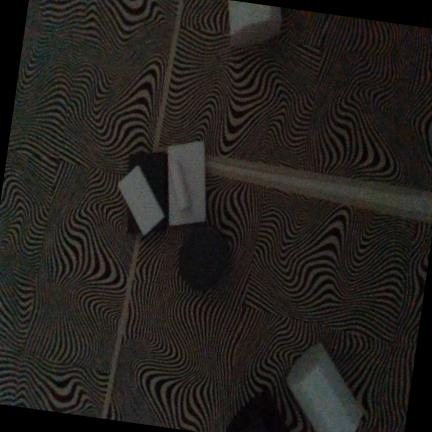Cilindro: (168, 163, 191, 211)
Paralelepipedo: (167, 140, 206, 226), (118, 164, 165, 235), (127, 152, 167, 234)
Prisma_hexagonal: (287, 343, 362, 432), (178, 226, 228, 291), (226, 389, 289, 432), (227, 0, 281, 46)
